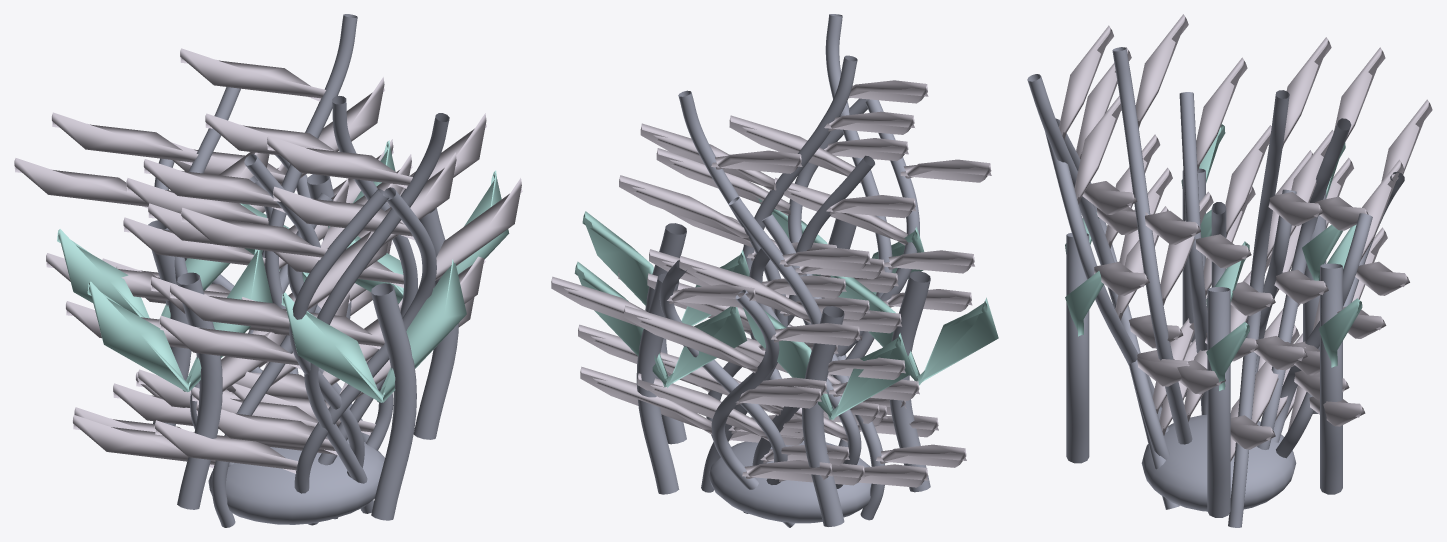
Rendered from bio_aquatic_frond_22_near.glb.
The picture shows the model from 3 angles, left to right: view 1: azimuth 30°, elevation 25°; view 2: azimuth 150°, elevation 25°; view 3: azimuth 270°, elevation 25°; orthographic projection. The views are drawn at different scales.
Visible parts, largest first — view 1: Ruffled aquatic blade.010, Ruffled aquatic blade.050, Ruffled aquatic blade.040, Holdfast, Ruffled aquatic blade.035, Secondary fan lobe.004, Ruffled aquatic blade.020, Ruffled aquatic blade.025, Ruffled aquatic blade.005, Secondary fan lobe.008, Branching support.002, Flexible stipe.002 (+17 smaller); view 2: Ruffled aquatic blade.030, Ruffled aquatic blade.005, Ruffled aquatic blade.015, Holdfast, Ruffled aquatic blade.040, Ruffled aquatic blade.010, Ruffled aquatic blade.020, Ruffled aquatic blade.035, Ruffled aquatic blade.050, Ruffled aquatic blade.045, Ruffled aquatic blade.025, Secondary fan lobe.008 (+21 smaller); view 3: Holdfast, Ruffled aquatic blade.025, Ruffled aquatic blade.040, Flexible stipe.005, Ruffled aquatic blade.010, Flexible stipe.008, Branching support, Ruffled aquatic blade.035, Ruffled aquatic blade, Branching support.002, Ruffled aquatic blade.030, Branching support.003 (+21 smaller).
Part boxes in pixels (x1,y1,x2,y2): Ruffled aquatic blade.010: [169, 135, 456, 455]; Ruffled aquatic blade.050: [154, 178, 522, 473]; Ruffled aquatic blade.040: [123, 48, 392, 401]; Holdfast: [208, 439, 384, 524]; Ruffled aquatic blade.035: [159, 207, 390, 455]; Secondary fan lobe.004: [281, 259, 466, 402]; Ruffled aquatic blade.020: [72, 154, 412, 468]; Ruffled aquatic blade.025: [191, 113, 486, 427]; Ruffled aquatic blade.005: [46, 112, 295, 407]; Secondary fan lobe.008: [87, 249, 272, 392]; Branching support.002: [371, 283, 416, 520]; Flexible stipe.002: [304, 113, 449, 513]; Ruffled aquatic blade.030: [580, 305, 860, 482]; Ruffled aquatic blade.005: [660, 248, 905, 465]; Ruffled aquatic blade.015: [551, 276, 865, 485]; Holdfast: [708, 441, 871, 523]; Ruffled aquatic blade.040: [619, 150, 869, 436]; Ruffled aquatic blade.010: [729, 80, 974, 415]; Ruffled aquatic blade.020: [665, 195, 966, 467]; Ruffled aquatic blade.035: [774, 159, 991, 425]; Ruffled aquatic blade.050: [656, 138, 938, 437]; Ruffled aquatic blade.045: [647, 273, 928, 487]; Ruffled aquatic blade.025: [618, 111, 914, 423]; Secondary fan lobe.008: [830, 275, 998, 385]; Holdfast: [1141, 414, 1296, 511]; Ruffled aquatic blade.025: [1135, 14, 1225, 421]; Ruffled aquatic blade.040: [1251, 37, 1331, 423]; Flexible stipe.005: [1112, 47, 1192, 444]; Ruffled aquatic blade.010: [1059, 25, 1194, 413]; Flexible stipe.008: [1228, 90, 1289, 527]; Branching support: [1207, 287, 1230, 517]; Ruffled aquatic blade.035: [1076, 47, 1197, 435]; Ruffled aquatic blade: [1225, 125, 1275, 461]; Branching support.002: [1066, 233, 1089, 463]; Ruffled aquatic blade.030: [1288, 99, 1432, 430]; Branching support.003: [1320, 263, 1342, 494].
Bounding box in the file's own units: 1.85 × 1.89 × 1.57.
